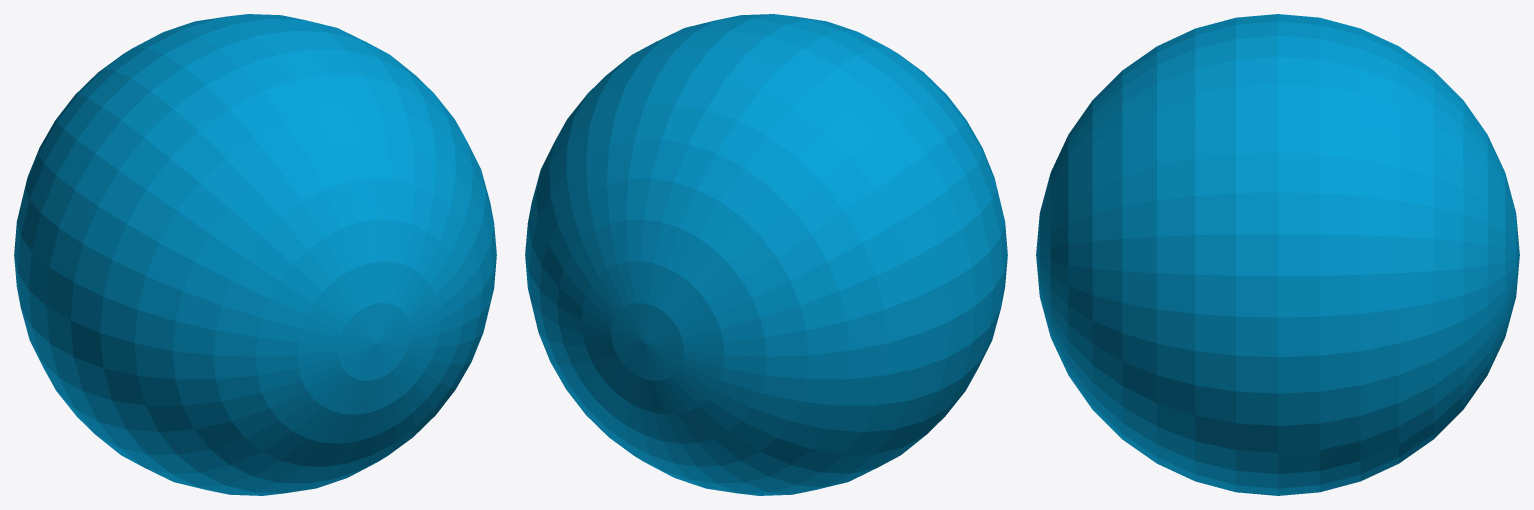
File: tinker.obj
The picture shows the model from 3 angles, left to right: view 1: azimuth 30°, elevation 25°; view 2: azimuth 150°, elevation 25°; view 3: azimuth 270°, elevation 25°; orthographic projection.
Parts seen in each view (by area): view 1: obj_0; view 2: obj_0; view 3: obj_0.
Boxes of the visible parts, <box> form: obj_0: <box>14,14,496,495</box>; obj_0: <box>525,14,1007,495</box>; obj_0: <box>1036,14,1519,495</box>.
Bounding box in the file's own units: 20 × 20 × 20.
